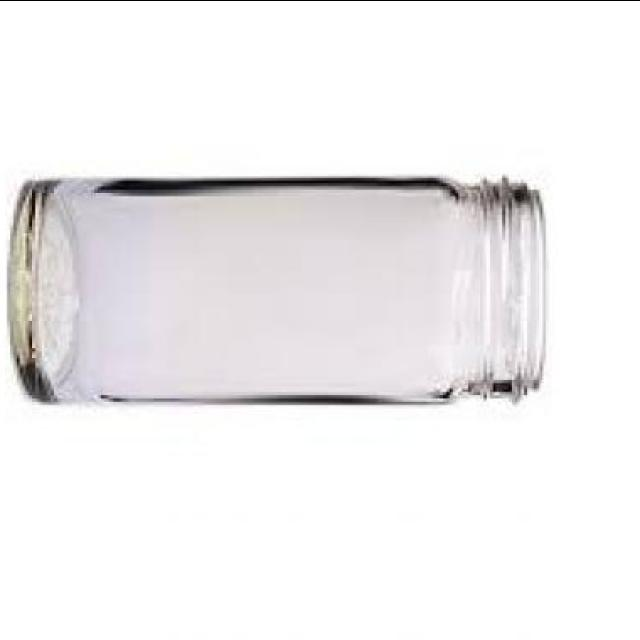kaca: (10, 175, 549, 406)
